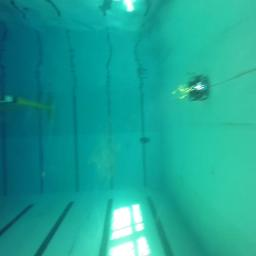Full: (140, 137, 150, 145)
front: (188, 80, 210, 100)
